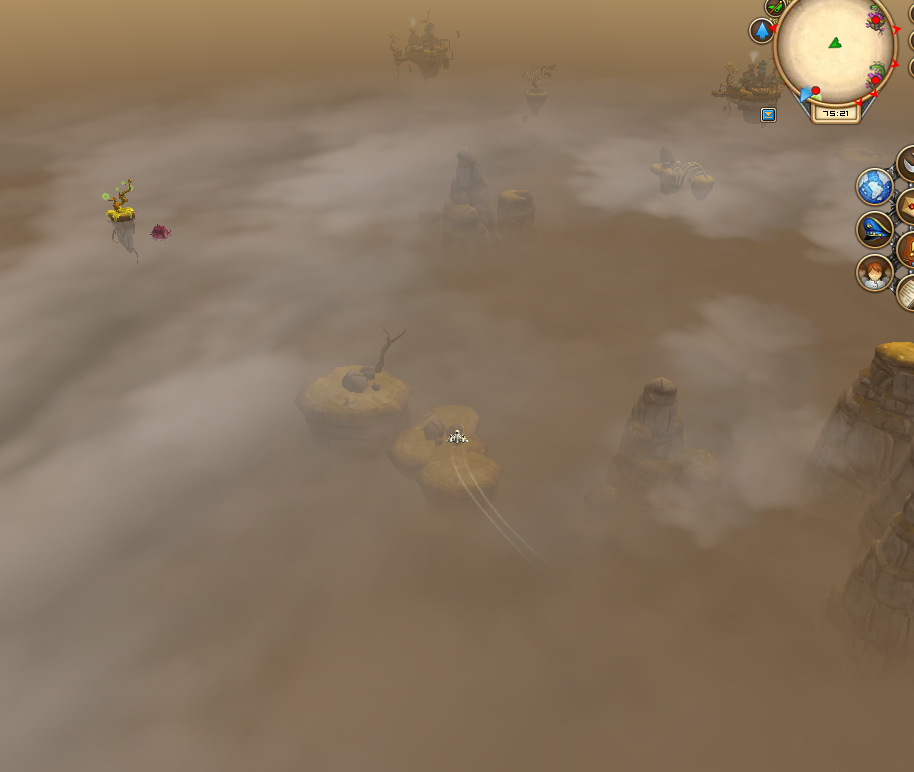dandelion-full: (98, 172, 140, 250)
